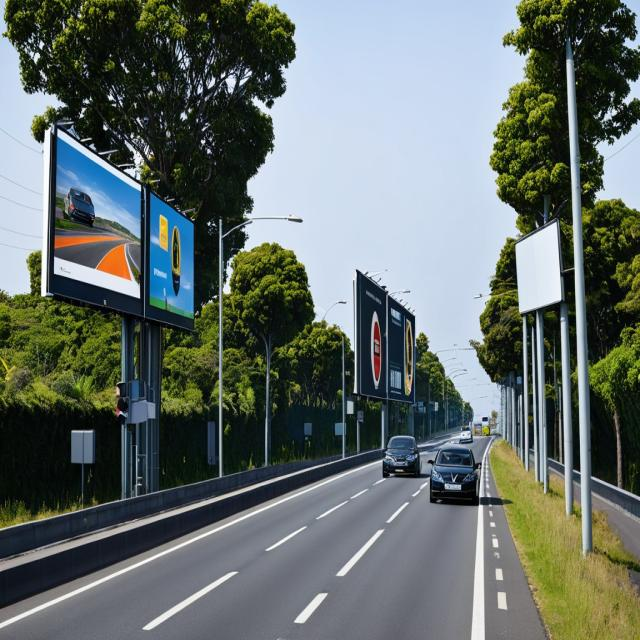Billboard_LHS: (38, 120, 147, 322), (148, 180, 206, 339), (387, 294, 428, 413), (356, 263, 388, 406)
Billboard_RHS: (508, 211, 570, 320)
Roadcorner: (2, 465, 362, 633), (451, 502, 488, 639)
Roadlane: (114, 467, 388, 639), (257, 484, 430, 639), (481, 451, 521, 624)
